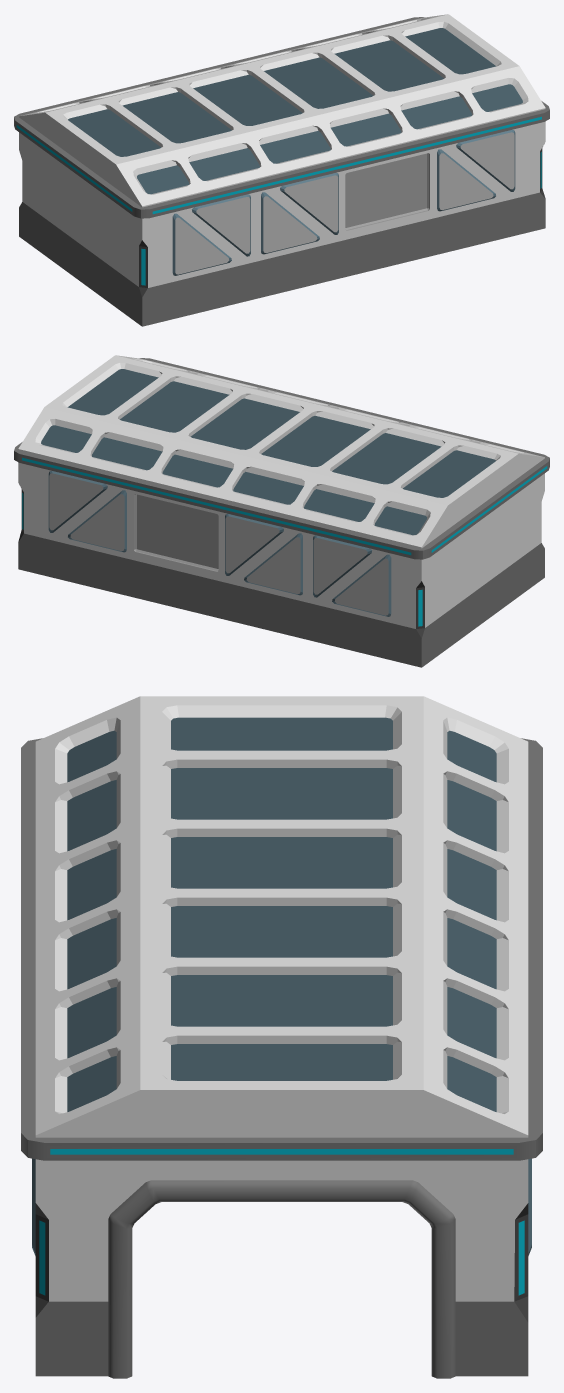
Rendered from hangar_001.fbx.
3 views of the same model, one above another, from view 1: azimuth 30°, elevation 25°; view 2: azimuth 150°, elevation 25°; view 3: azimuth 270°, elevation 25° (orthographic). The views are drawn at different scales.
Parts seen in each view (by area): view 1: hangar_001; view 2: hangar_001; view 3: hangar_001.
Boxes of the visible parts, <box> form: hangar_001: <box>14,14,549,326</box>; hangar_001: <box>14,355,549,667</box>; hangar_001: <box>21,696,542,1378</box>.
Size of the model in its own units: 1760 by 959 by 580.
